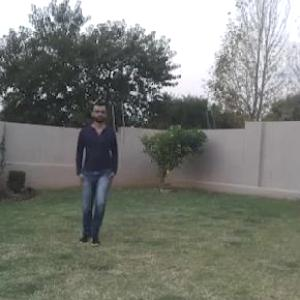follow: (77, 104, 116, 234)
